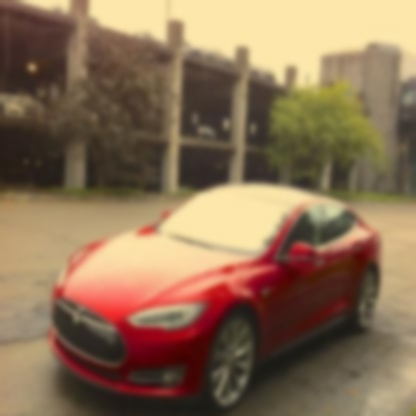Vehicle: (49, 180, 386, 415)
